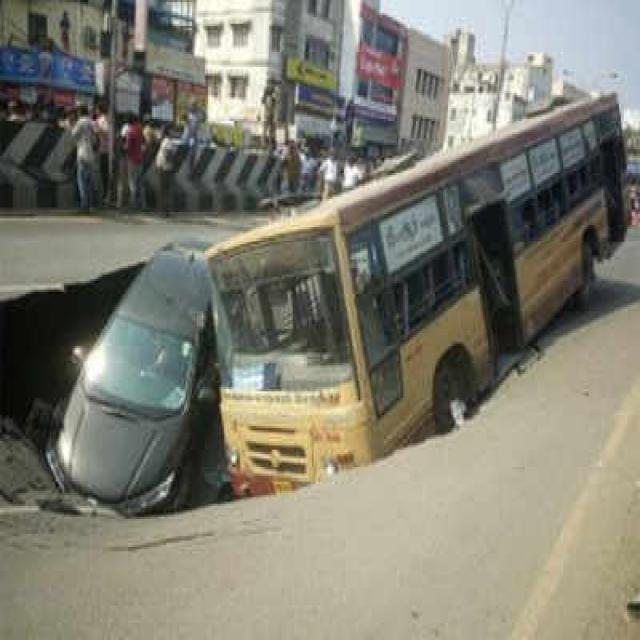accident: (206, 99, 626, 492), (48, 243, 224, 514)
